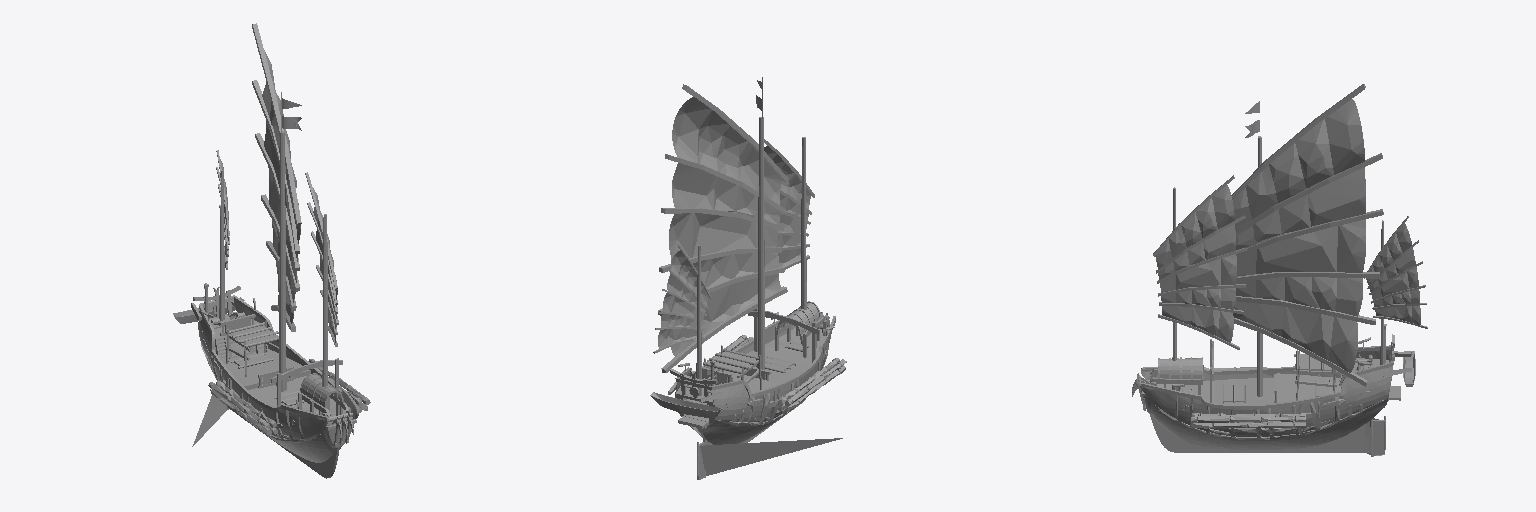
The model's file is playerShip1.obj.
3 views of the same model, side by side, from view 1: azimuth 30°, elevation 25°; view 2: azimuth 150°, elevation 25°; view 3: azimuth 270°, elevation 25° (orthographic).
Visible parts, largest first — view 1: MED-BOAT; view 2: MED-BOAT; view 3: MED-BOAT.
Part boxes in pixels (left/top/right/bottom): MED-BOAT: left=173, top=23, right=370, bottom=478; MED-BOAT: left=650, top=77, right=846, bottom=479; MED-BOAT: left=1132, top=84, right=1427, bottom=456.
Size of the model in its own units: 9.93 by 25.67 by 17.96.